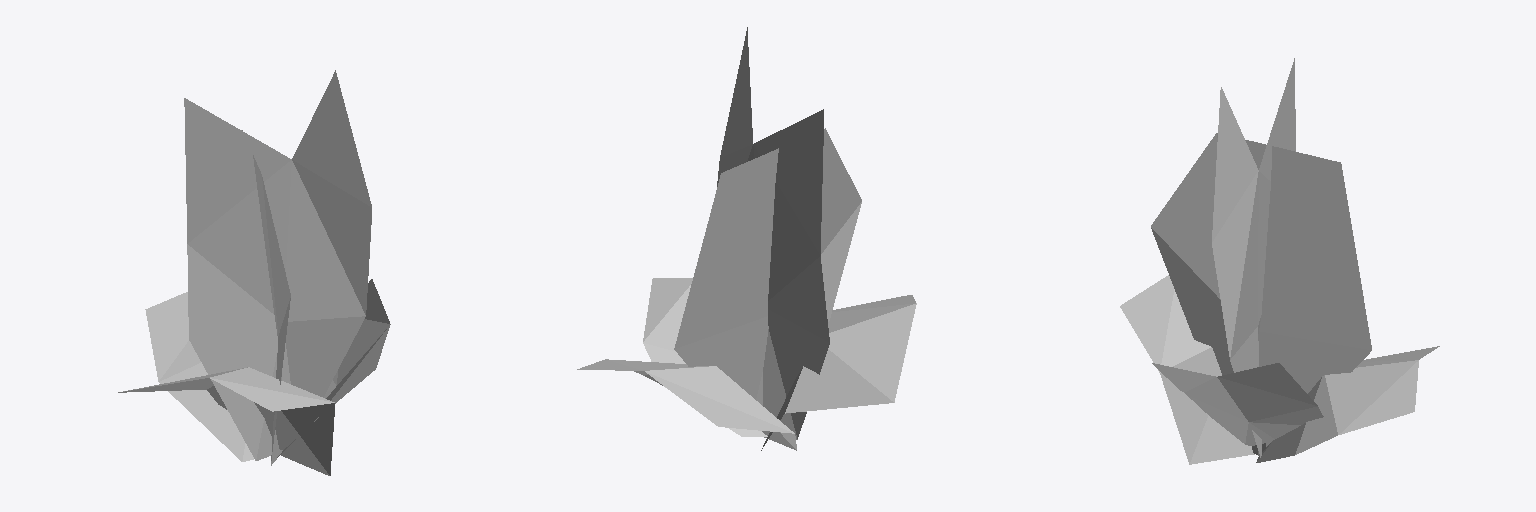
File: Grass07.obj
The picture shows the model from 3 angles: view 1: azimuth 30°, elevation 25°; view 2: azimuth 150°, elevation 25°; view 3: azimuth 270°, elevation 25°; orthographic projection.
Visible parts, largest first — view 1: Medium_bush_3; view 2: Medium_bush_3; view 3: Medium_bush_3.
Part boxes in pixels (left/top/right/bottom): Medium_bush_3: left=118, top=70, right=390, bottom=475; Medium_bush_3: left=577, top=27, right=916, bottom=450; Medium_bush_3: left=1120, top=58, right=1439, bottom=464.
Bounding box in the file's own units: 0.4691 × 0.6572 × 0.4889.